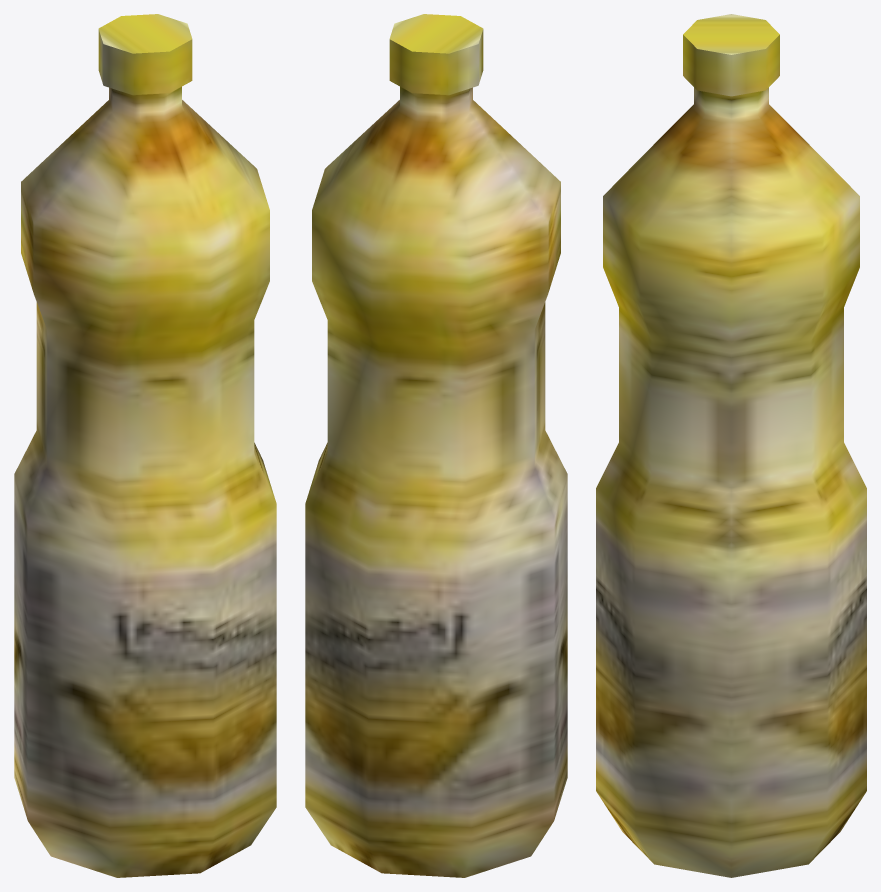
3 views of the same model, side by side, from view 1: azimuth 30°, elevation 25°; view 2: azimuth 150°, elevation 25°; view 3: azimuth 270°, elevation 25° (orthographic).
Parts seen in each view (by area): view 1: Cooking_oil001_Foods_07_0; view 2: Cooking_oil001_Foods_07_0; view 3: Cooking_oil001_Foods_07_0.
Boxes of the visible parts, x1,y1,x2,y2 form: Cooking_oil001_Foods_07_0: [14, 14, 276, 877]; Cooking_oil001_Foods_07_0: [305, 14, 567, 877]; Cooking_oil001_Foods_07_0: [596, 14, 866, 877].
Bounding box in the file's own units: 0.1138 × 0.3697 × 0.1138.
1 material, 1 textured.
